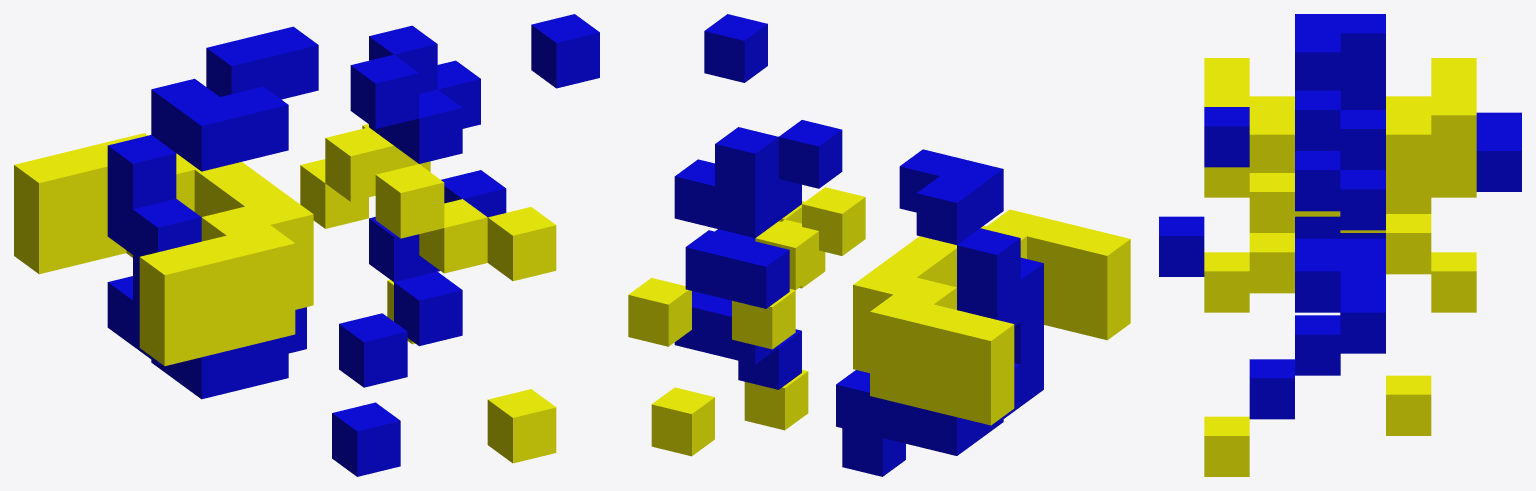
File: broken_chain.obj
3 views of the same model, side by side, from view 1: azimuth 30°, elevation 25°; view 2: azimuth 150°, elevation 25°; view 3: azimuth 270°, elevation 25° (orthographic). The views are drawn at different scales.
Bounding box in the file's own units: 1 × 0.9 × 0.8.
1 material, 1 textured.
